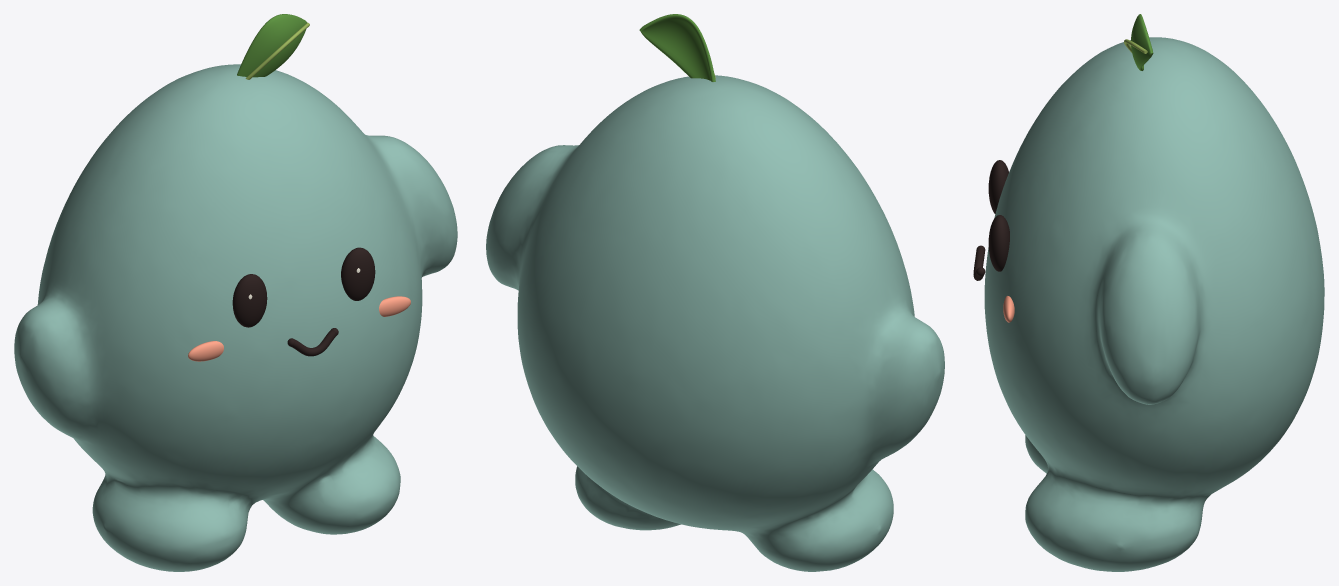
File: sprout-sprite-v4.glb
The picture shows the model from 3 angles, left to right: view 1: azimuth 30°, elevation 25°; view 2: azimuth 150°, elevation 25°; view 3: azimuth 270°, elevation 25°; orthographic projection. The views are drawn at different scales.
Visible parts, largest first — view 1: Sprite body, Sprout tuft, Seed eye, Seed eye.001, Cheek; view 2: Sprite body, Sprout tuft; view 3: Sprite body, Seed eye.001, Sprout tuft, Seed eye.
Part boxes in pixels (x1,y1,x2,y2): Sprite body: (14,64,457,571); Sprout tuft: (237,14,307,77); Seed eye: (232,274,267,327); Seed eye.001: (341,247,375,300); Cheek: (188,341,223,361); Sprite body: (486,75,944,571); Sprout tuft: (639,14,715,81); Sprite body: (984,37,1324,571); Seed eye.001: (988,215,1009,271); Sprout tuft: (1131,14,1153,70); Seed eye: (988,160,1008,213).
Bounding box in the file's own units: 1.52 × 1.7 × 1.03.
